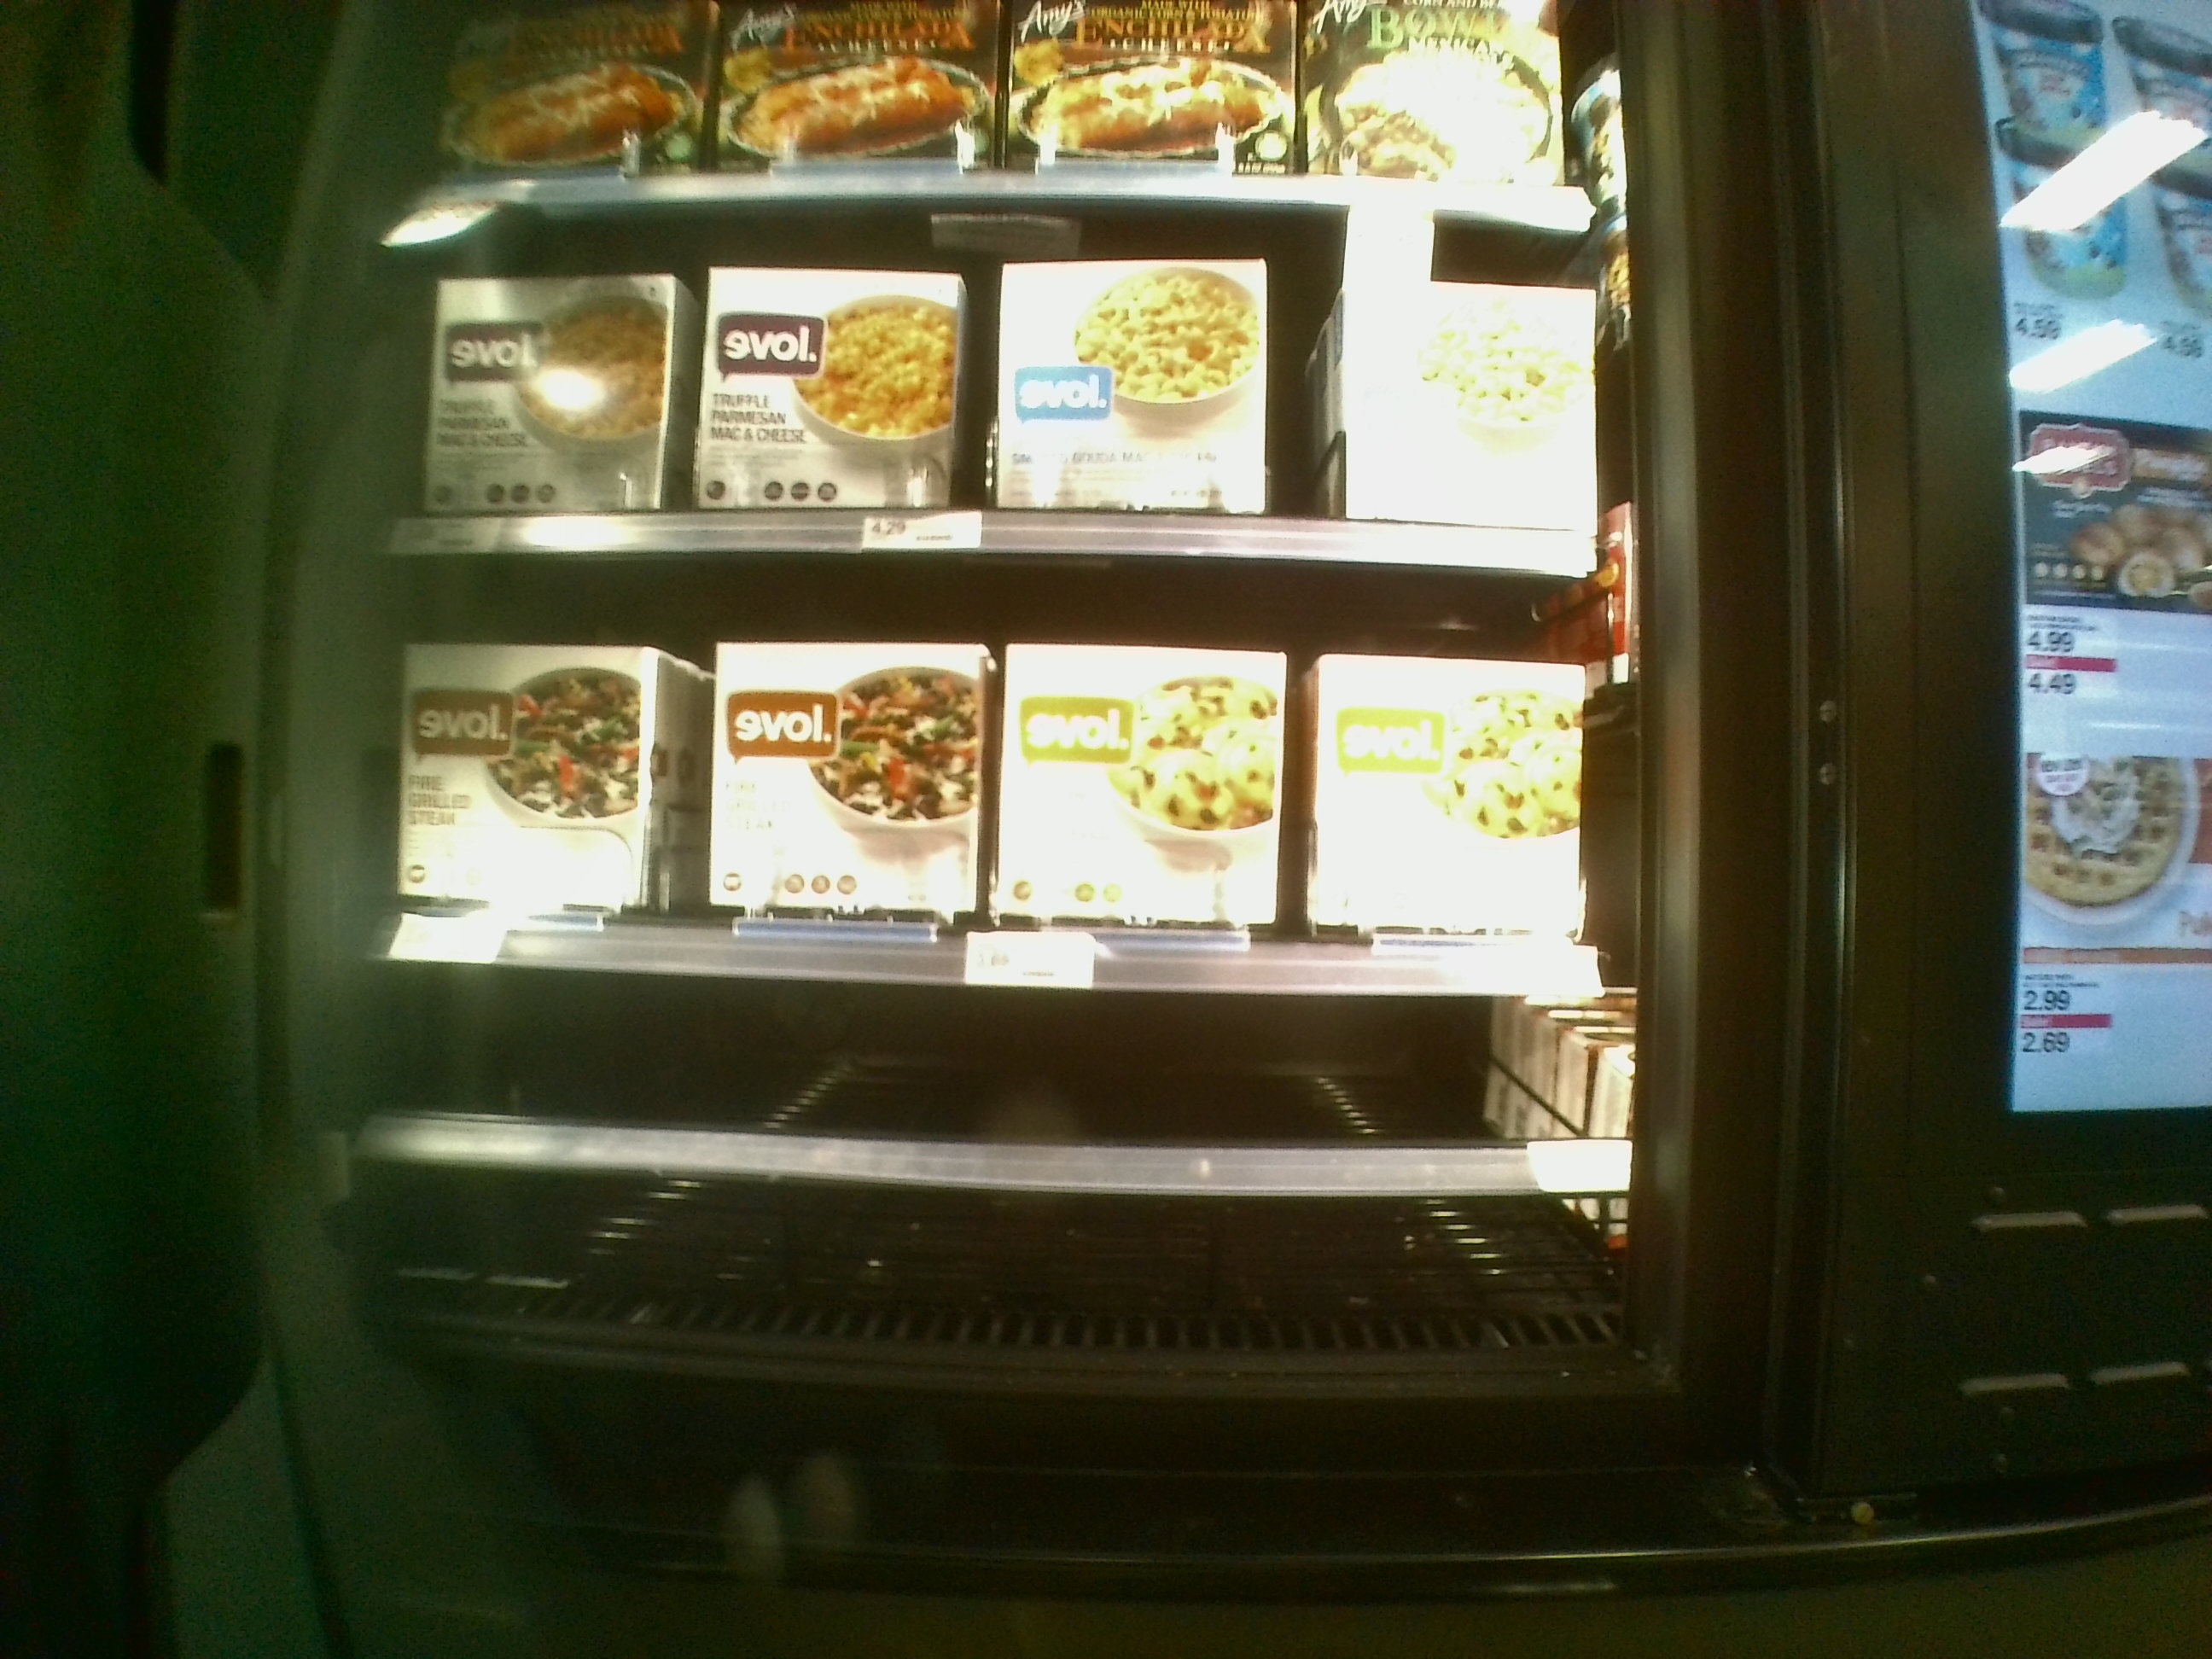shelf: (394, 568, 1625, 986), (385, 214, 1618, 572), (385, 985, 1618, 1333)
